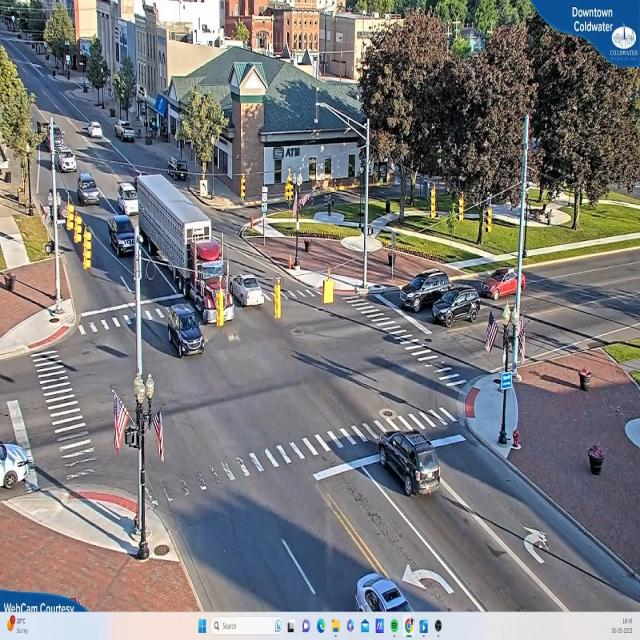bus: (77, 172, 99, 207)
car: (377, 430, 442, 497), (164, 302, 205, 361), (401, 272, 455, 314), (356, 574, 410, 614), (432, 288, 480, 327), (482, 270, 528, 303), (234, 274, 265, 312), (56, 149, 77, 172), (117, 121, 137, 145)
truck: (183, 208, 231, 320)
